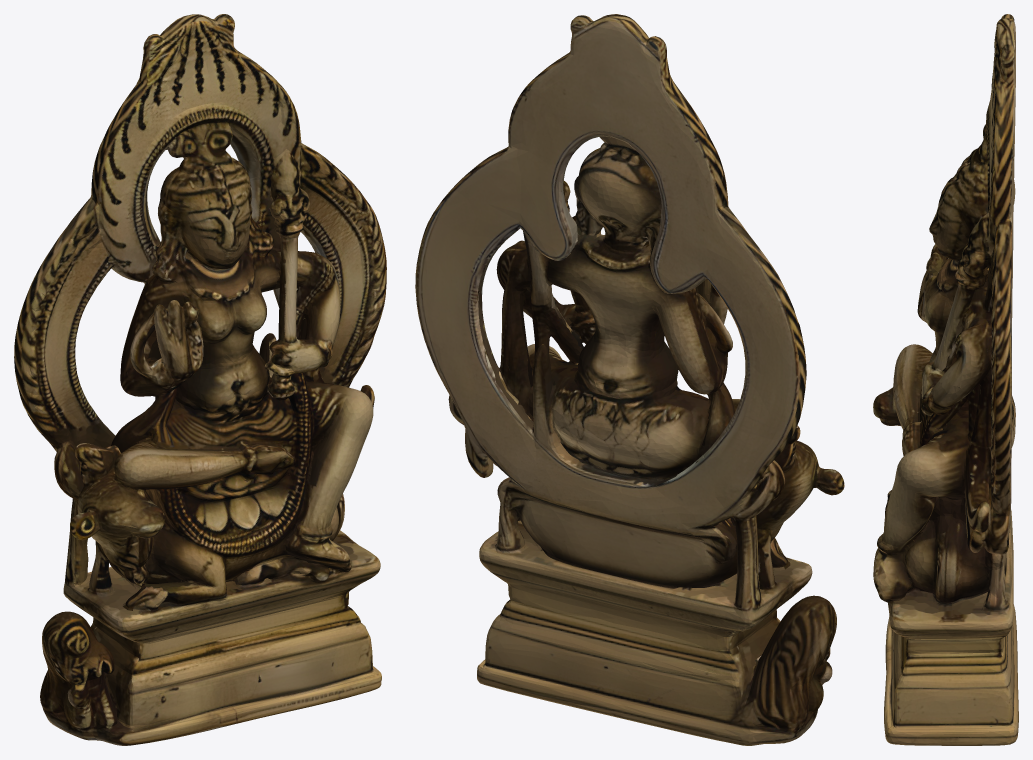
3 views of the same model, side by side, from view 1: azimuth 30°, elevation 25°; view 2: azimuth 150°, elevation 25°; view 3: azimuth 270°, elevation 25° (orthographic). The views are drawn at different scales.
Parts seen in each view (by area): view 1: textured_mesh; view 2: textured_mesh; view 3: textured_mesh.
Part boxes in pixels (x1,y1,x2,y2): textured_mesh: (14,14,386,745); textured_mesh: (415,14,844,745); textured_mesh: (873,14,1018,745).
Size of the model in its own units: 1.16 by 1.99 by 0.3981.
Materials: 1 (1 with a texture image).
